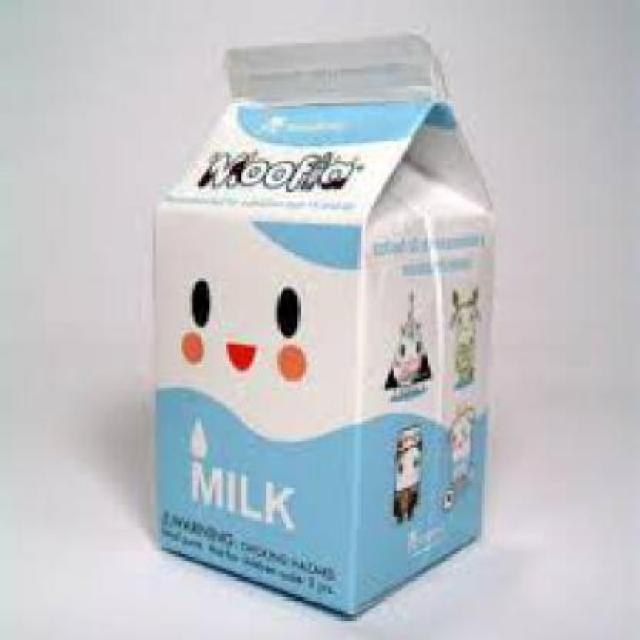drink carton: (146, 32, 491, 623)
